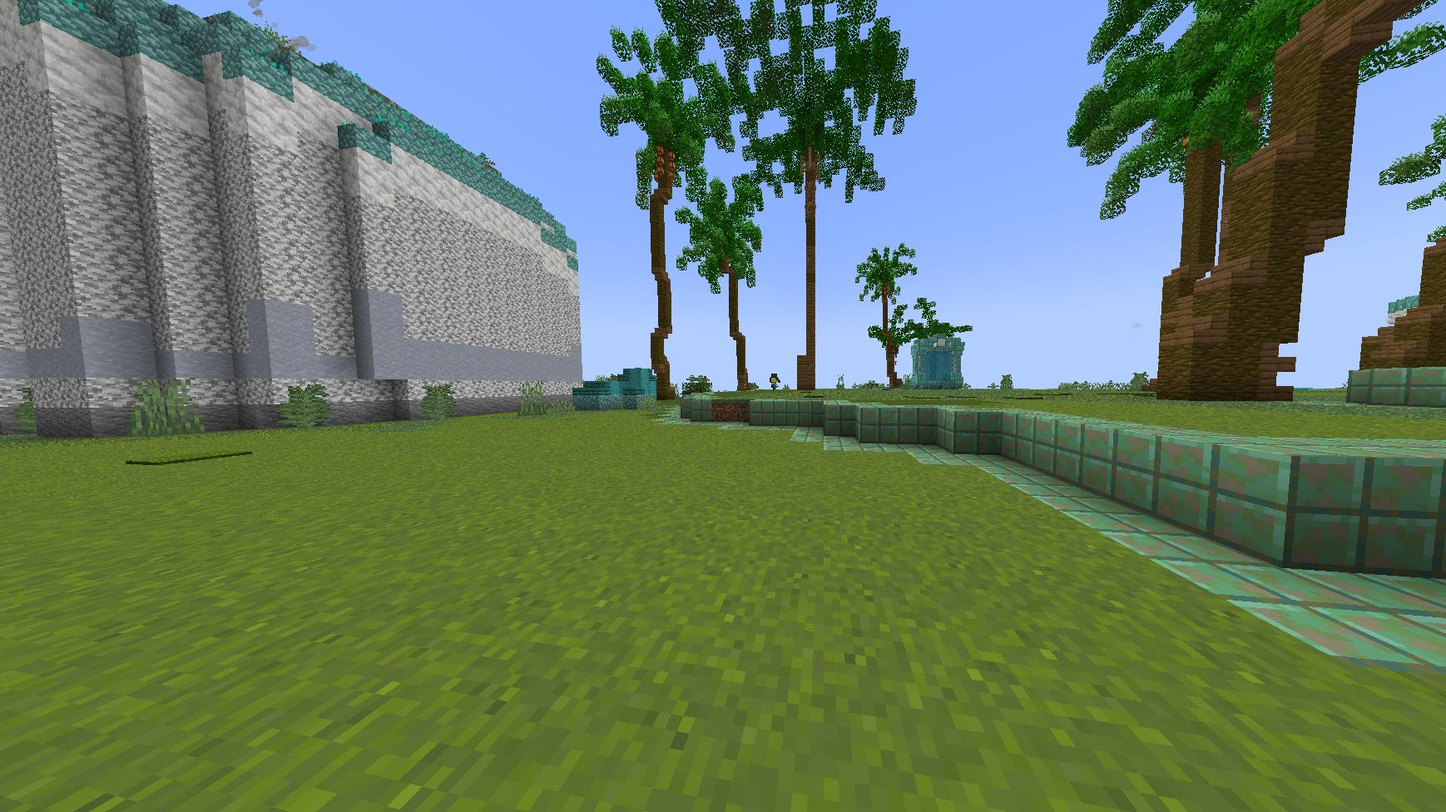Guardian: (770, 373, 780, 389)
